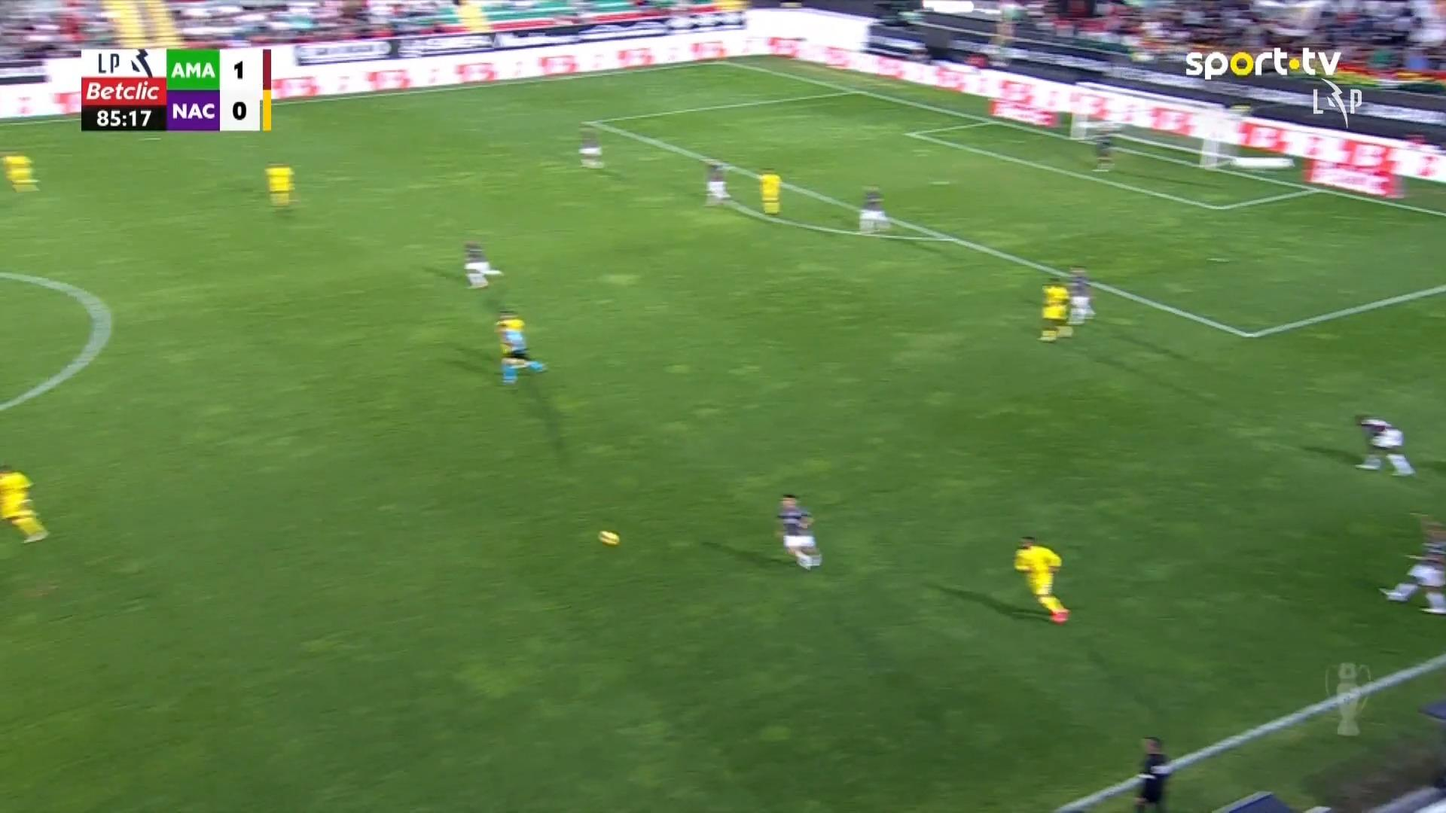ball: (597, 529, 619, 547)
goalkeeper: (857, 186, 891, 234)
player: (1012, 534, 1070, 624), (1378, 540, 1444, 614), (491, 309, 546, 385), (1353, 412, 1416, 477), (0, 463, 50, 544), (776, 492, 822, 571), (461, 239, 504, 290), (1038, 276, 1072, 340), (1066, 264, 1096, 323), (703, 161, 731, 205)
referee: (1132, 735, 1174, 811), (497, 324, 548, 386)
